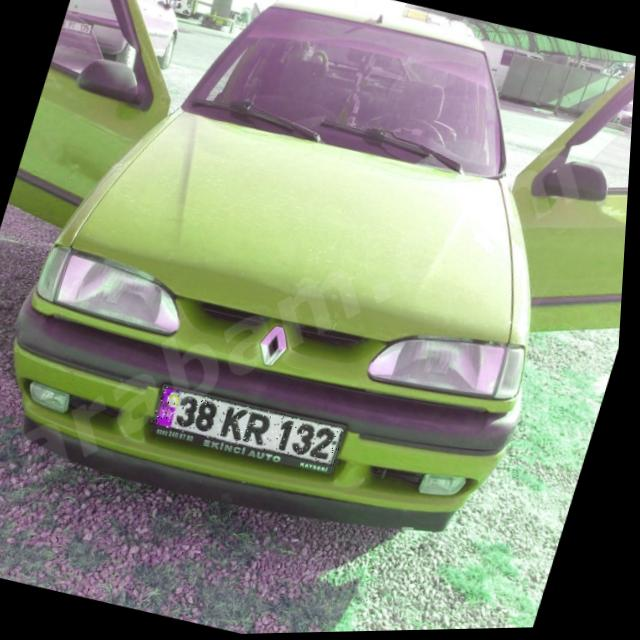license_plate: (154, 383, 352, 471)
